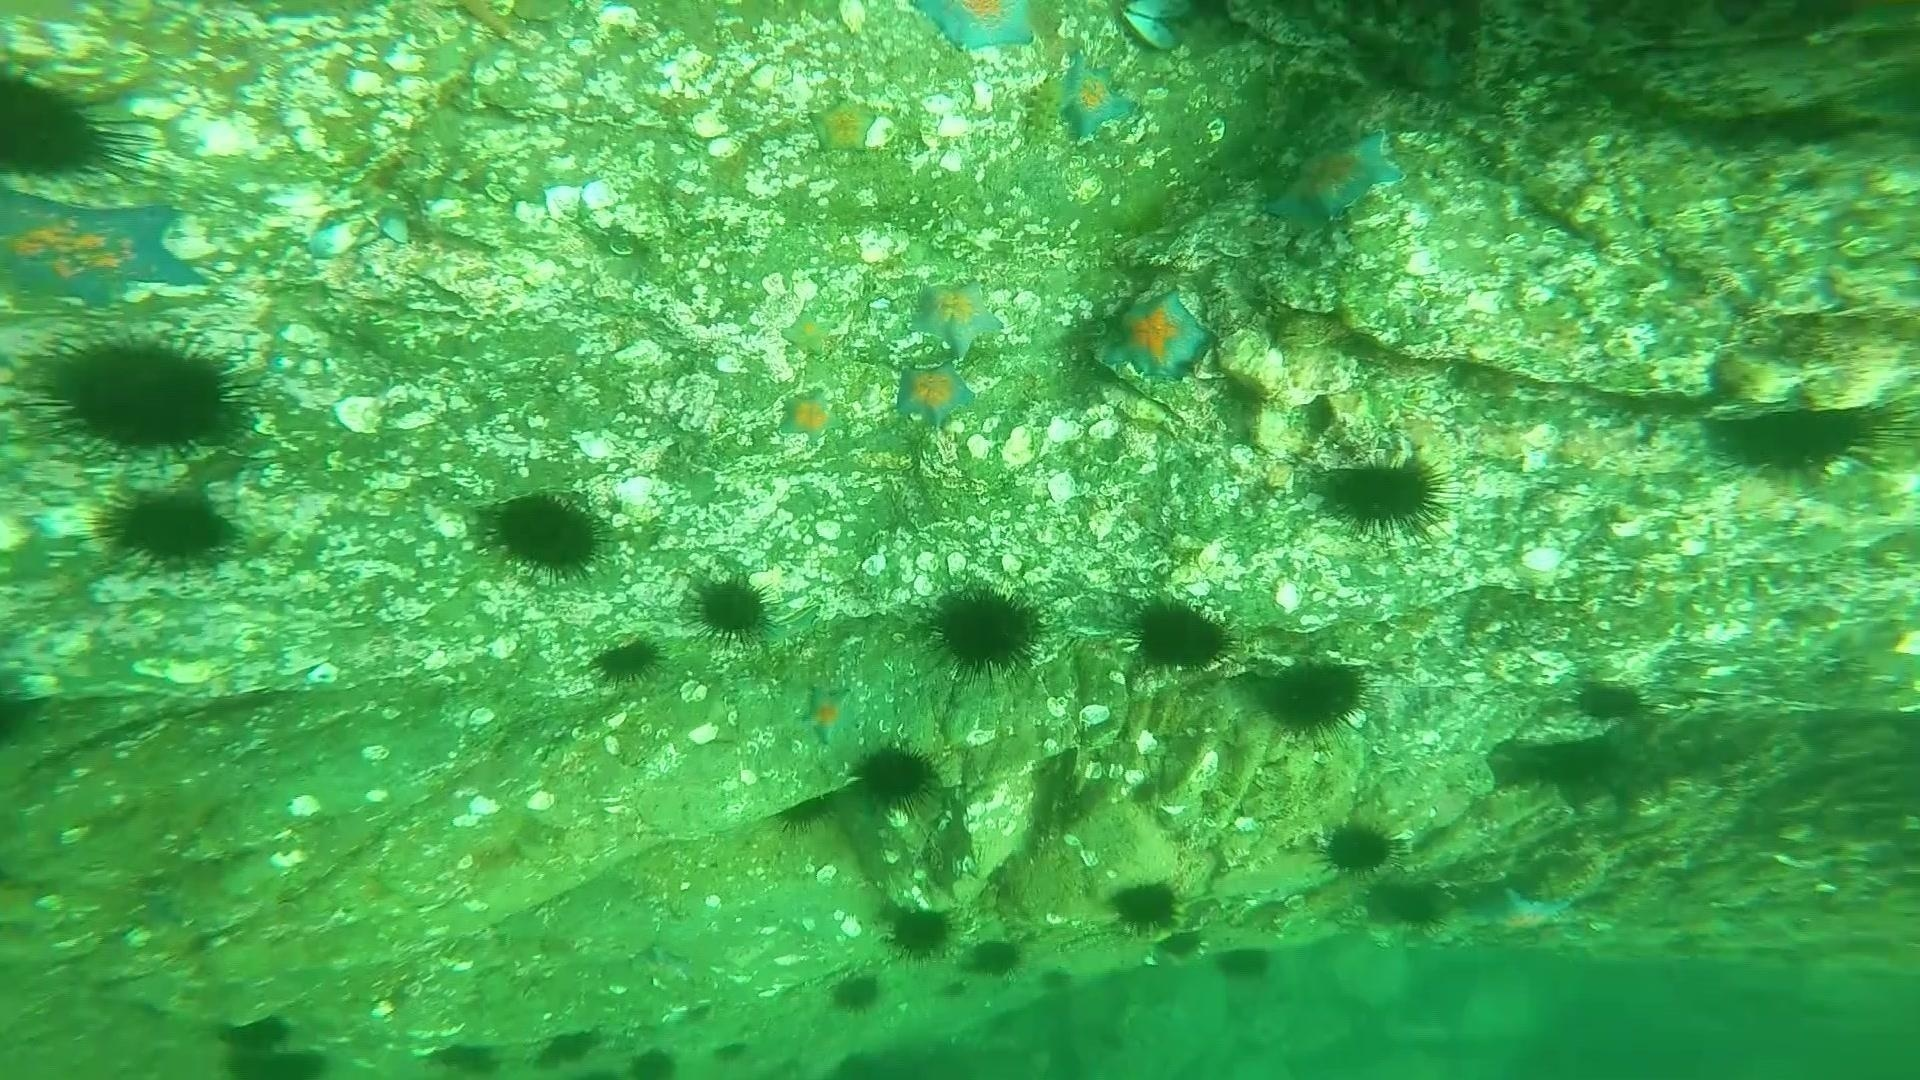echinus: (32, 328, 251, 456), (1, 65, 146, 187), (1704, 396, 1895, 485), (92, 483, 241, 574), (1313, 448, 1453, 542), (924, 578, 1047, 680), (480, 487, 611, 582), (1254, 651, 1373, 740), (1124, 592, 1236, 676), (849, 738, 942, 815), (688, 570, 775, 644), (1361, 873, 1452, 934), (1317, 814, 1400, 880), (880, 897, 957, 963), (1105, 874, 1185, 938), (1, 655, 49, 753), (588, 630, 665, 690), (1571, 675, 1646, 725), (214, 1010, 294, 1052), (964, 932, 1027, 982), (531, 1025, 601, 1069), (1211, 942, 1276, 988), (825, 967, 885, 1017), (233, 1047, 316, 1080), (421, 1038, 489, 1075), (626, 1042, 680, 1080), (704, 1039, 756, 1069), (1042, 963, 1084, 994), (944, 980, 971, 1005)
starfish: (1, 191, 211, 315), (1258, 124, 1406, 235), (1093, 282, 1218, 389), (1050, 50, 1142, 146), (907, 273, 1007, 360), (909, 1, 1043, 58), (1472, 881, 1586, 947), (891, 356, 980, 433), (806, 94, 895, 161), (774, 386, 841, 448), (798, 680, 856, 749), (781, 305, 843, 361)
